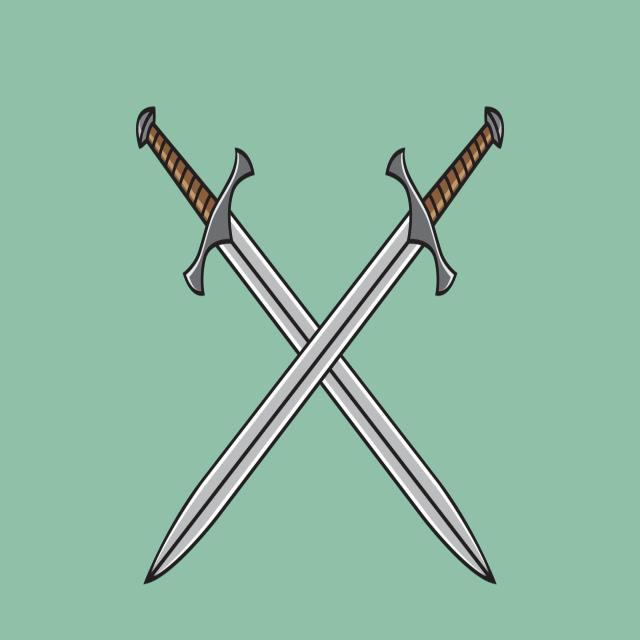weapon: (134, 105, 502, 592), (143, 107, 501, 588)
